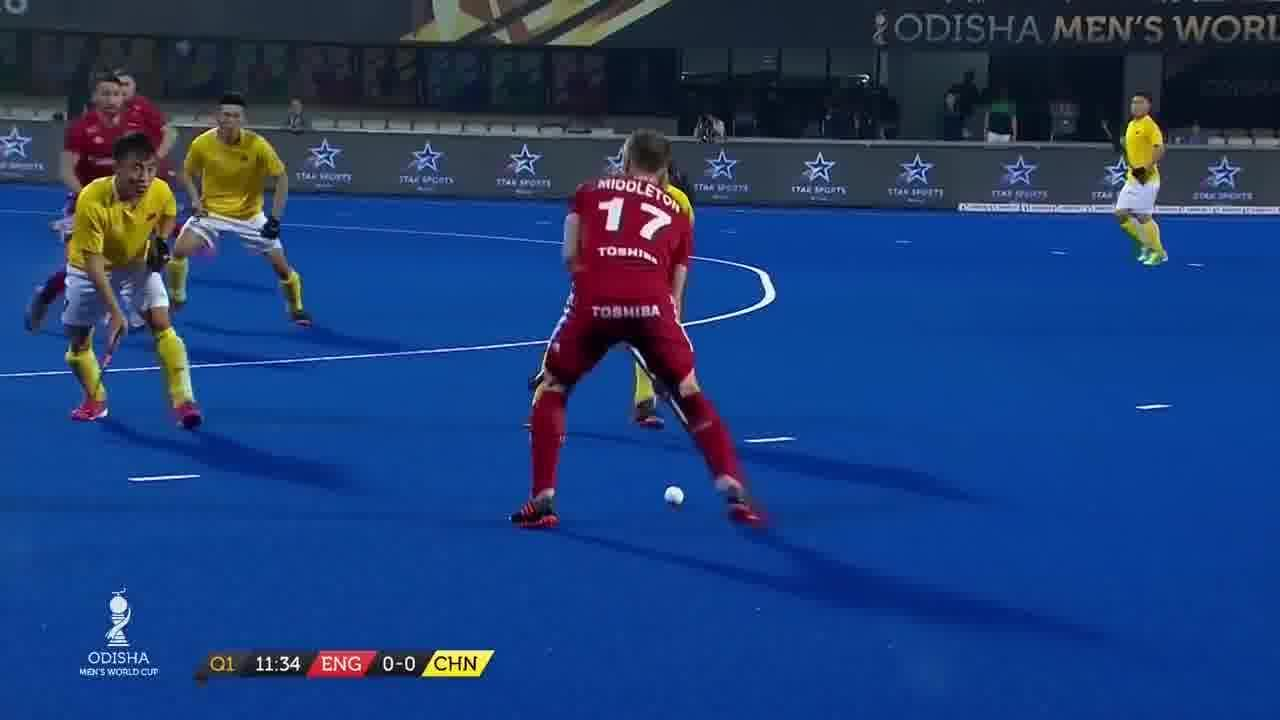ball: (662, 480, 686, 508)
